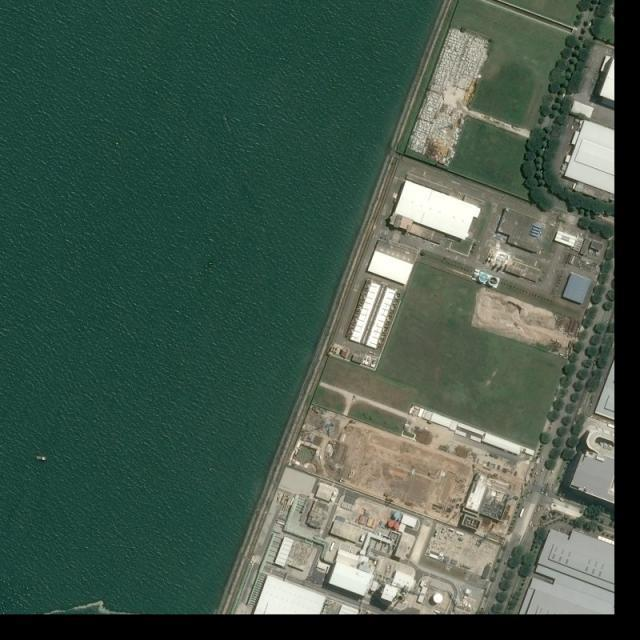ship: (36, 456, 46, 461)
